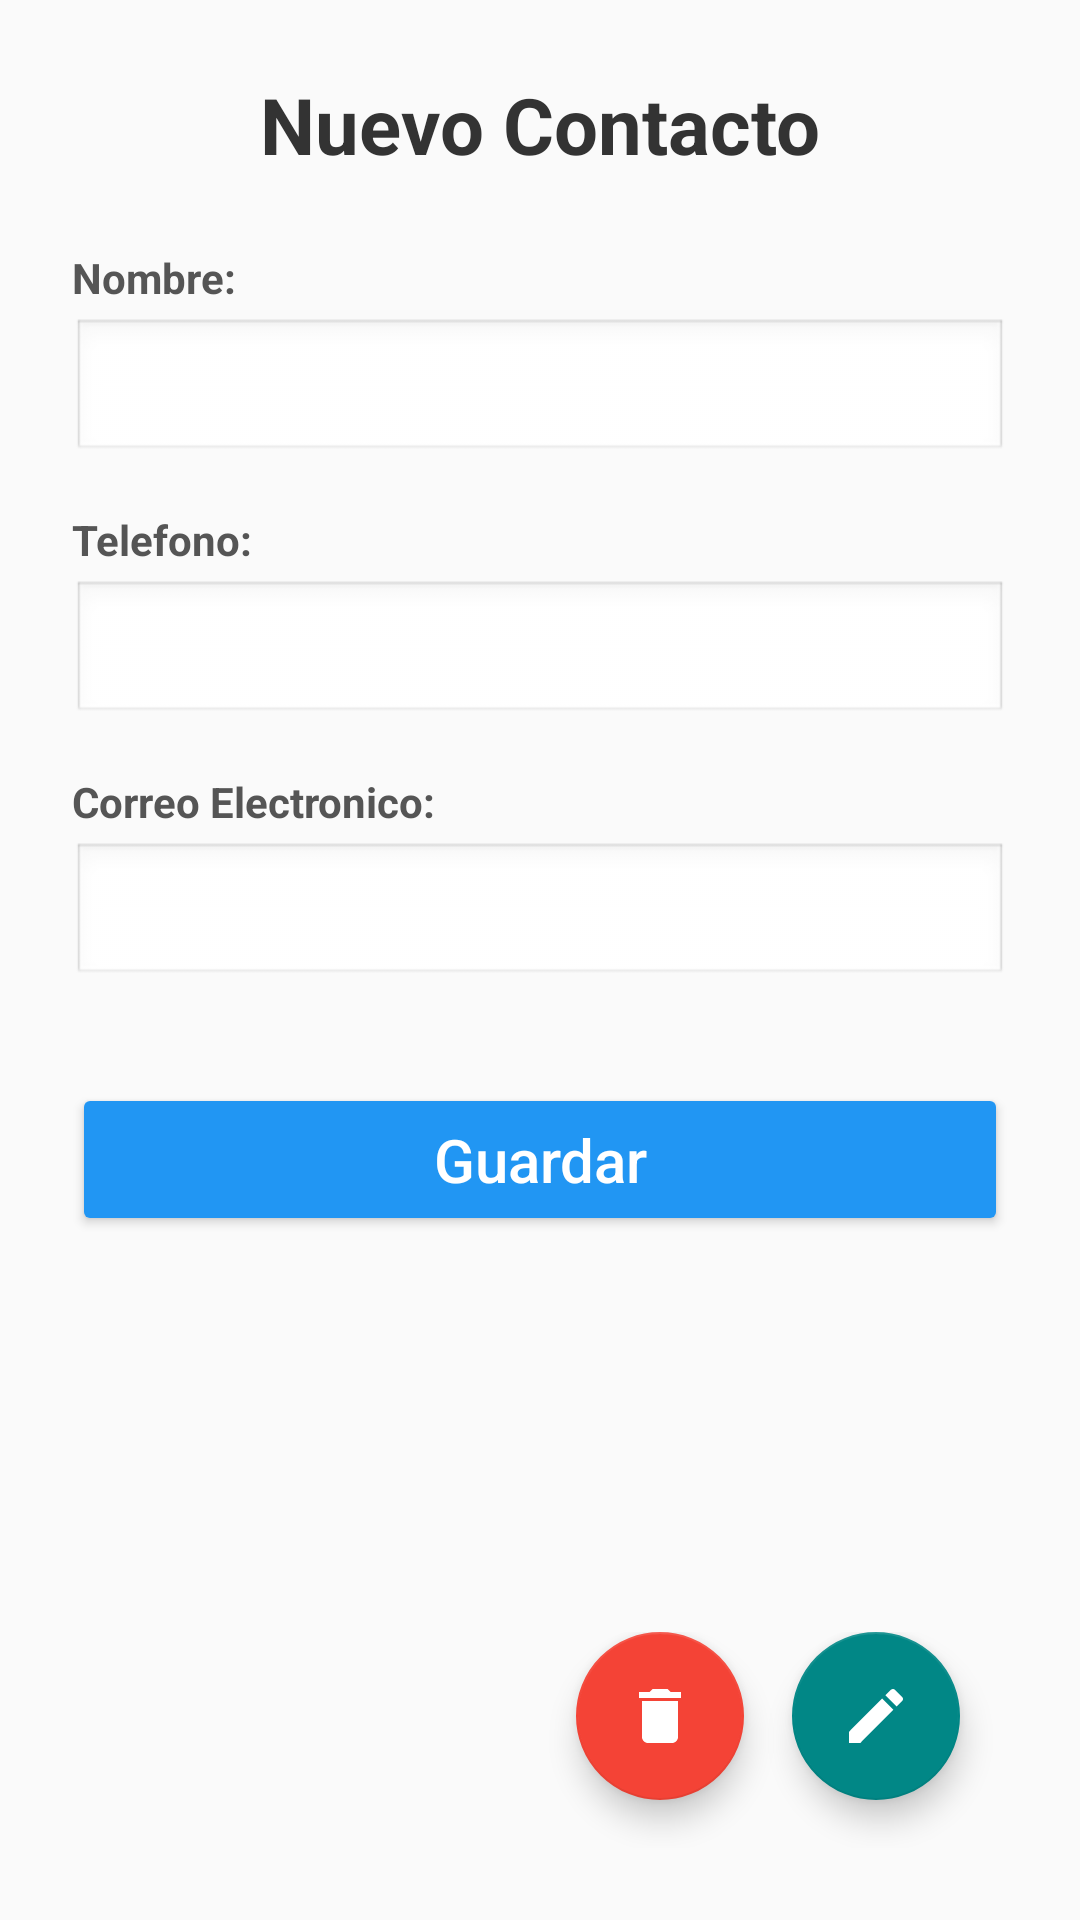

Point at icon controls on the screen. Image size 1080 × 1920, points as point (x, y).
Editar: point (876, 1716)
Eliminar: point (660, 1716)
